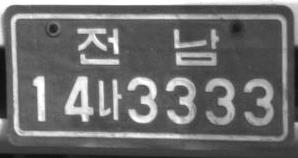1: (26, 74, 53, 122)
3: (125, 75, 159, 125), (242, 76, 275, 127), (204, 76, 236, 127), (165, 76, 198, 125)
4: (63, 74, 94, 123)
나: (96, 77, 122, 119)
전남_D: (76, 25, 220, 68)
